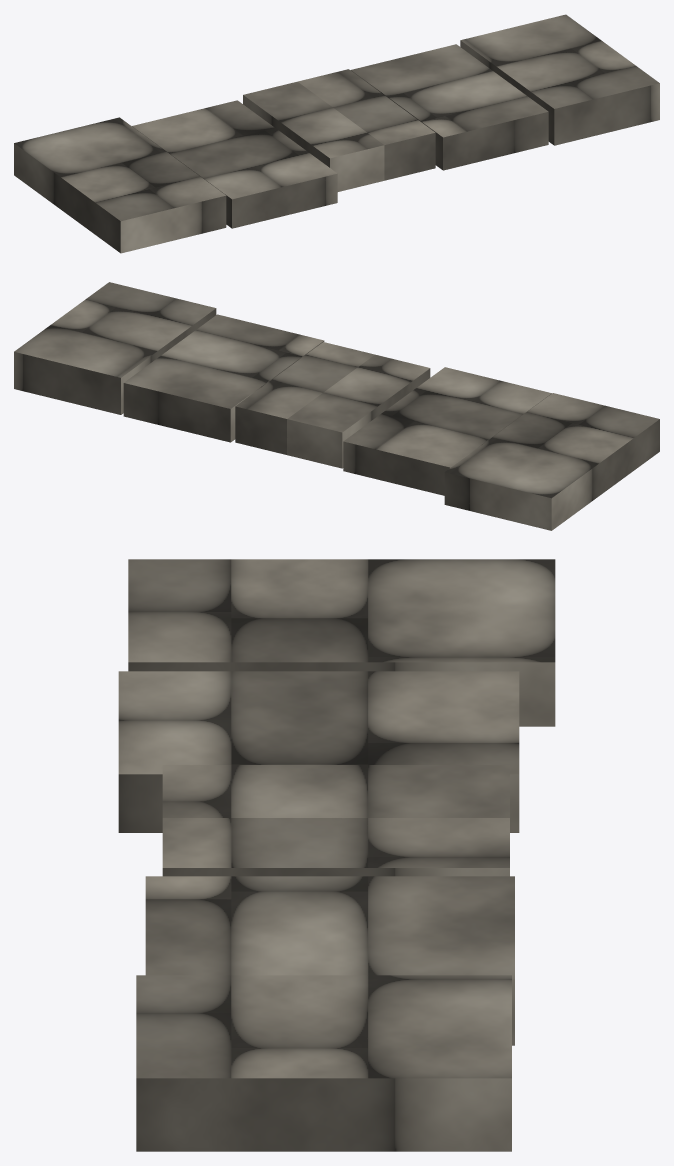
Rendered from Prop_ExteriorBorder_Straight1_LOD1.gltf.
3 renders of one model, top to bottom at view 1: azimuth 30°, elevation 25°; view 2: azimuth 150°, elevation 25°; view 3: azimuth 270°, elevation 25°, orthographic. The views are drawn at different scales.
Visible parts, largest first — view 1: Prop_ExteriorBorder_Straight1_LOD1; view 2: Prop_ExteriorBorder_Straight1_LOD1; view 3: Prop_ExteriorBorder_Straight1_LOD1.
Boxes of the visible parts, x1=… form: Prop_ExteriorBorder_Straight1_LOD1: x1=14, y1=14, x2=659, y2=253; Prop_ExteriorBorder_Straight1_LOD1: x1=14, y1=282, x2=659, y2=530; Prop_ExteriorBorder_Straight1_LOD1: x1=118, y1=559, x2=555, y2=1151.
Size of the model in its own units: 2 by 0.1298 by 0.6993.
Materials: 1 (1 with a texture image).
